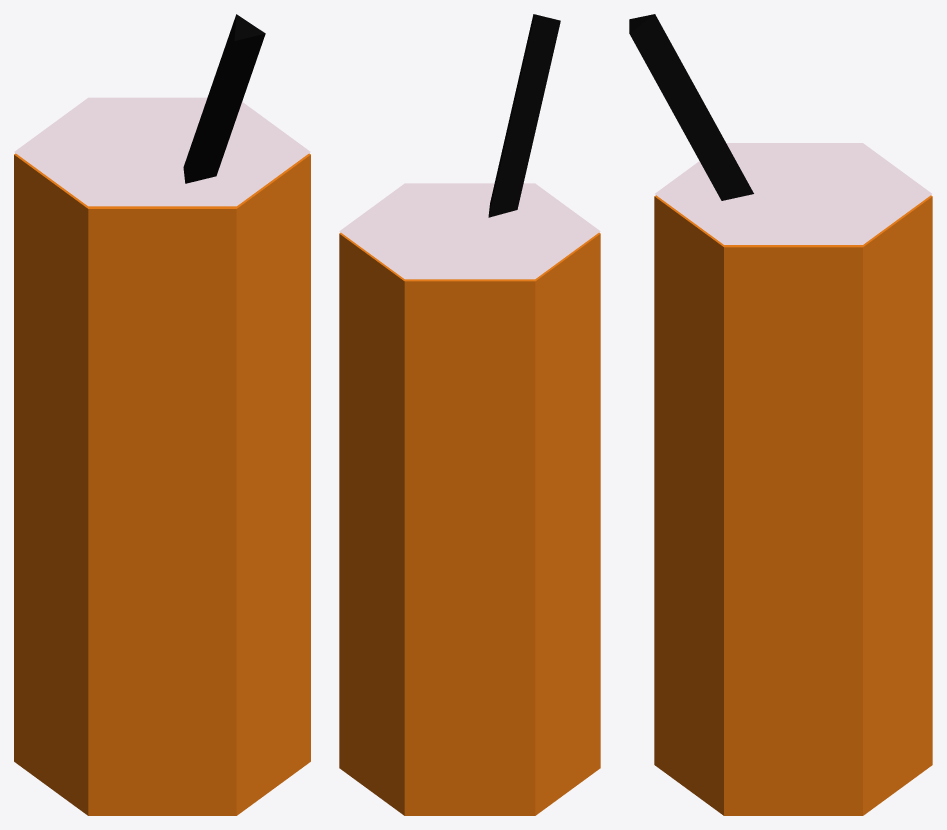
File: Drink.fbx
3 views of the same model, side by side, from view 1: azimuth 30°, elevation 25°; view 2: azimuth 150°, elevation 25°; view 3: azimuth 270°, elevation 25° (orthographic). The views are drawn at different scales.
Parts seen in each view (by area): view 1: Can, Lid, Straw; view 2: Can, Lid, Straw; view 3: Can, Lid, Straw.
Boxes of the visible parts, x1,y1,x2,y2 form: Can: (14,153,310,815); Lid: (14,97,310,206); Straw: (183,14,265,183); Can: (339,232,600,815); Lid: (339,183,600,279); Straw: (488,14,560,217); Can: (654,195,932,815); Lid: (655,143,931,244); Straw: (629,14,753,200).
Size of the model in its own units: 8.5 by 29.24 by 10.7.
